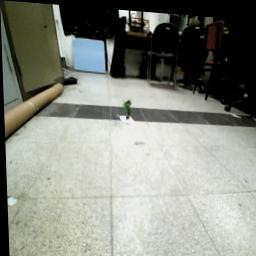herb: (122, 97, 133, 120)
